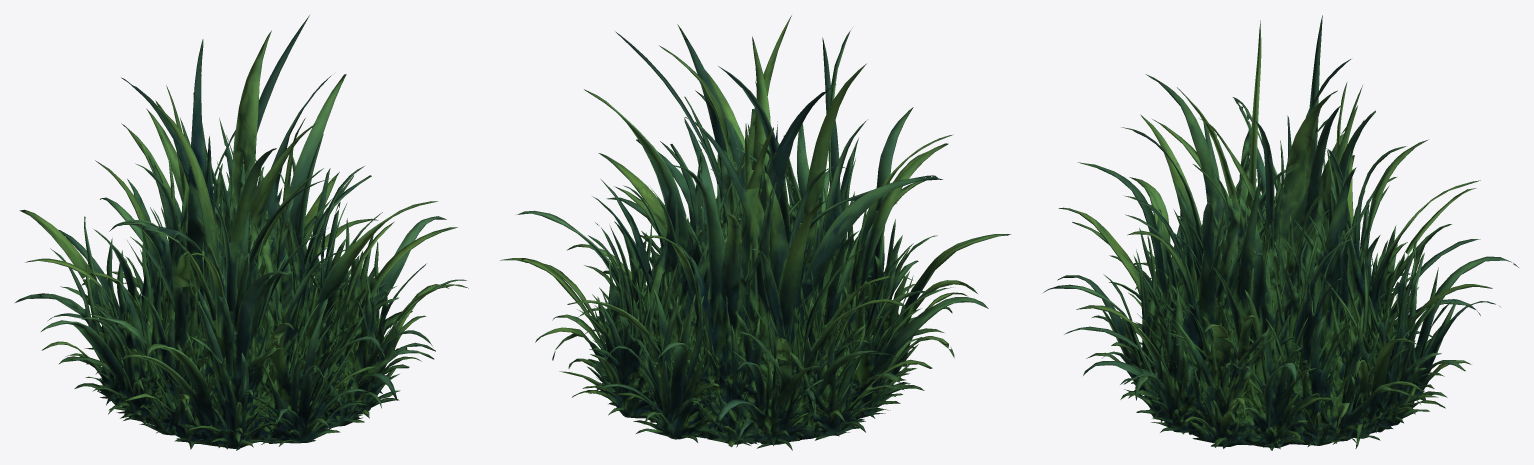
File: grass01.glb
3 views of the same model, side by side, from view 1: azimuth 30°, elevation 25°; view 2: azimuth 150°, elevation 25°; view 3: azimuth 270°, elevation 25° (orthographic). The views are drawn at different scales.
Bounding box in the file's own units: 1.89 × 1.4 × 1.8.
Materials: 1 (1 with a texture image).
